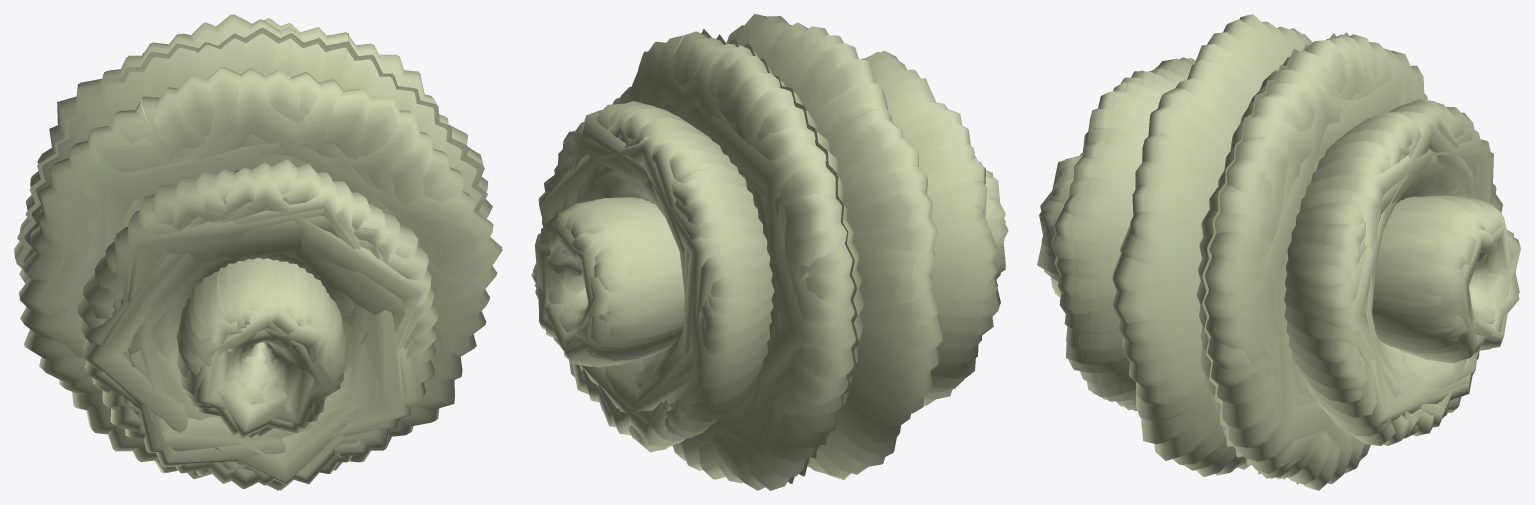
Rendered from uuon-warped-molecule.glb.
3 renders of one model, left to right at view 1: azimuth 30°, elevation 25°; view 2: azimuth 150°, elevation 25°; view 3: azimuth 270°, elevation 25°, orthographic. The views are drawn at different scales.
Parts seen in each view (by area): view 1: mesh; view 2: mesh; view 3: mesh.
Part boxes in pixels (x1,y1,x2,y2): mesh: [14, 14, 502, 490]; mesh: [531, 14, 1008, 490]; mesh: [1037, 14, 1520, 490].
Size of the model in its own units: 4.74 by 4.81 by 4.93.
1 material, 1 textured.
